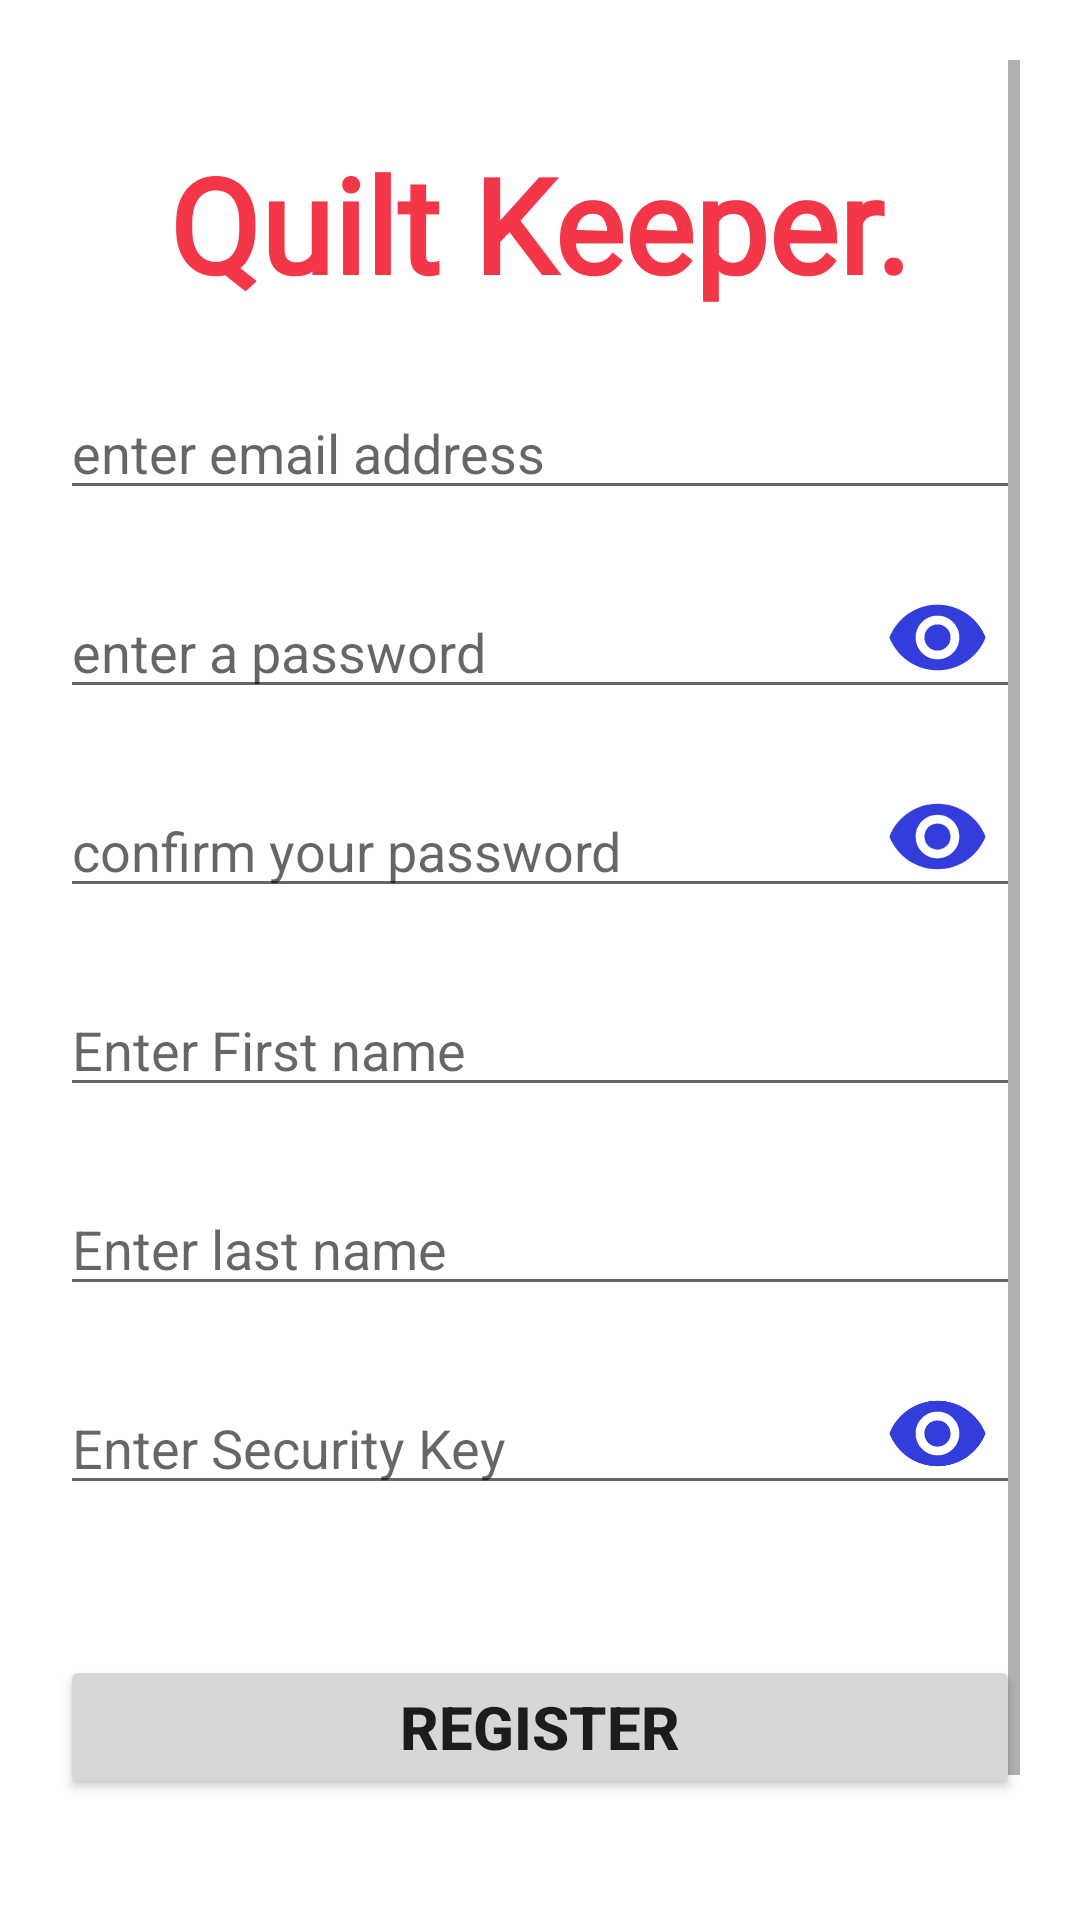

Named icons in this screenshot (1080×1920) and their centers, [x,y]:
visibility: [937,637], [937,836], [937,1433]
